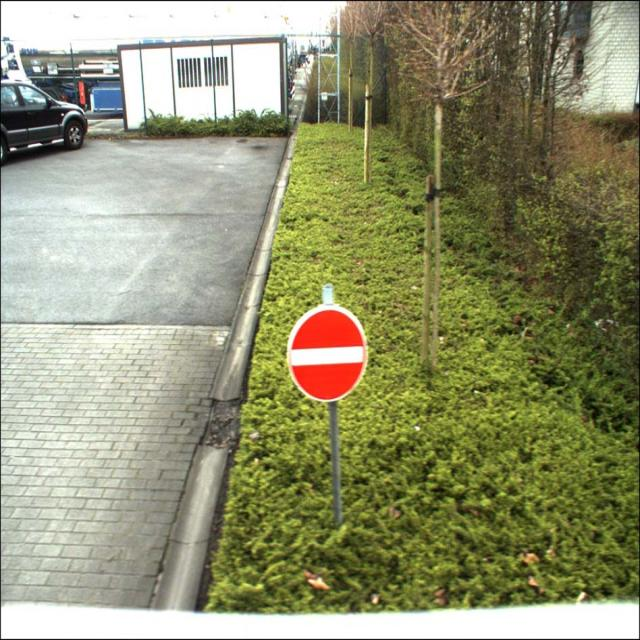girisyok: (288, 305, 367, 399)
